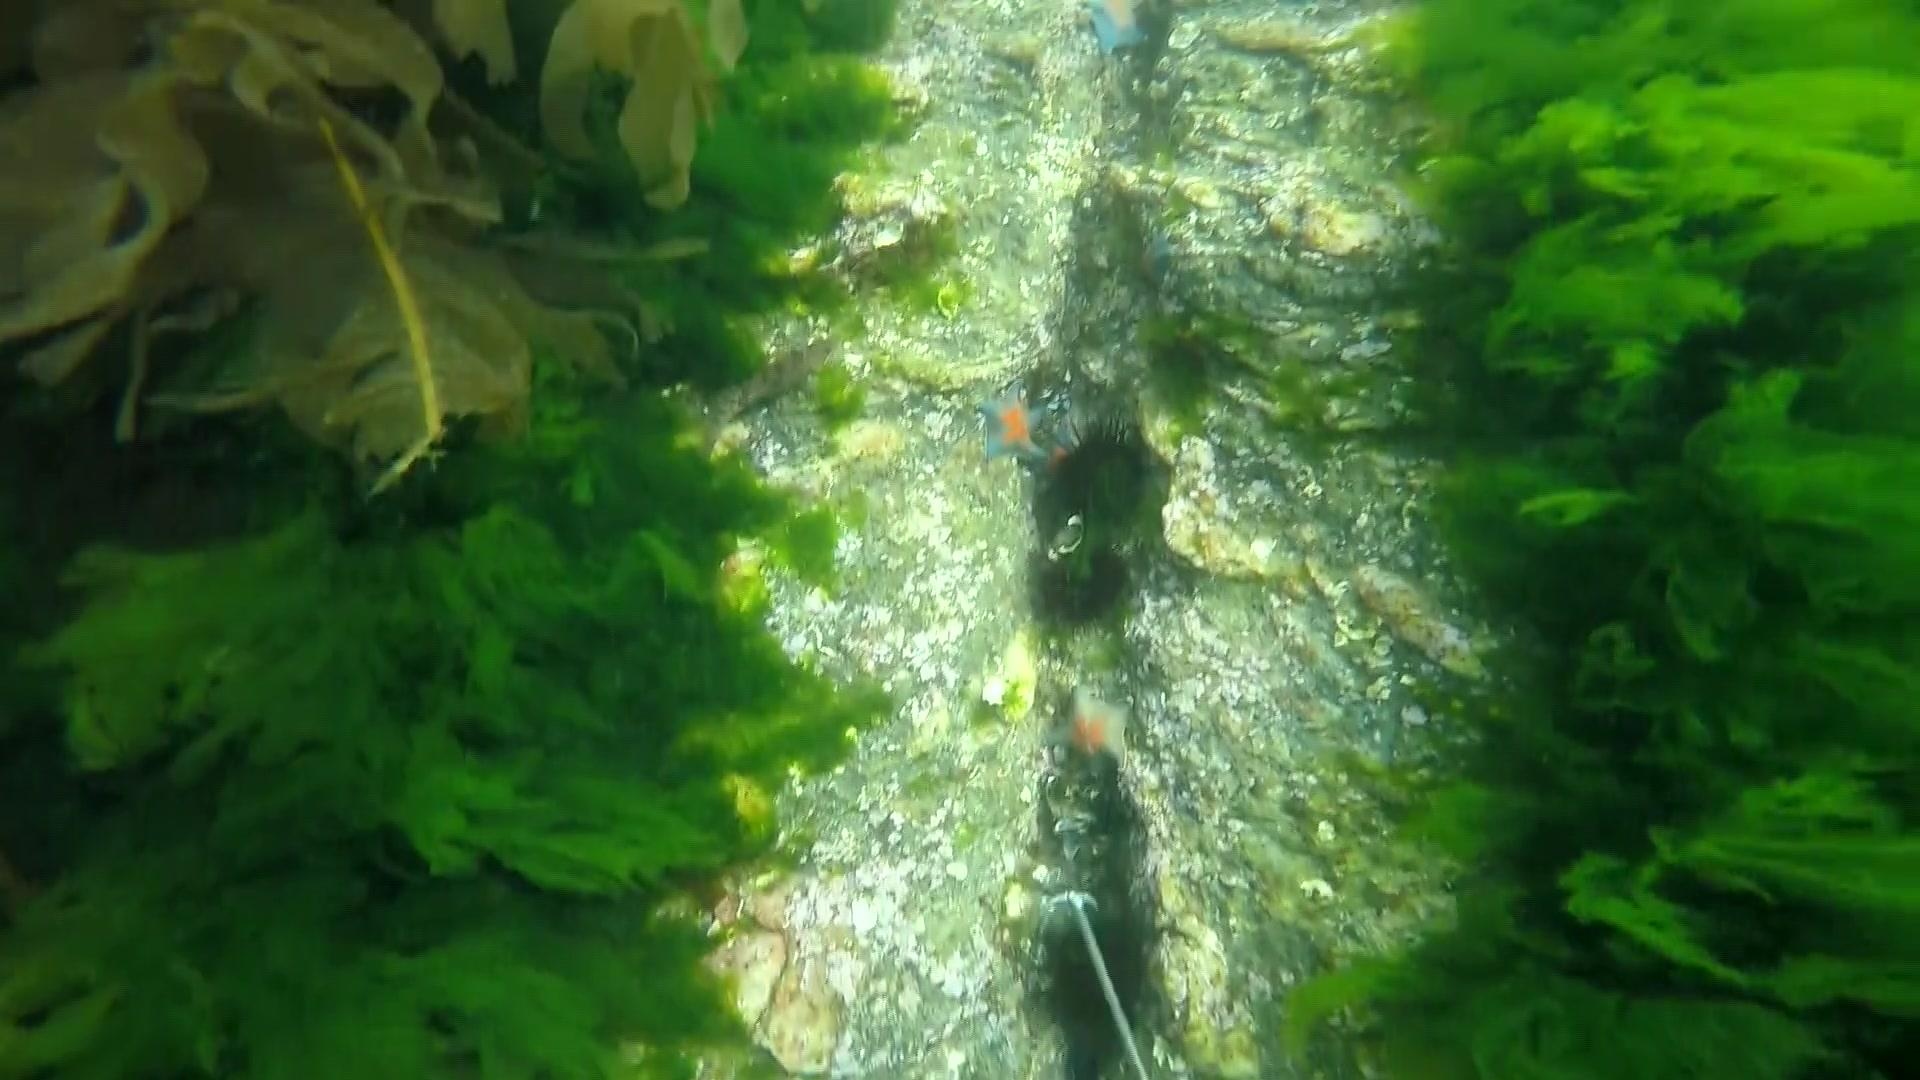echinus: (1033, 920, 1159, 1033), (1040, 406, 1156, 525), (1035, 541, 1131, 632)
starfish: (1044, 683, 1138, 781), (971, 378, 1056, 469), (1077, 1, 1153, 59), (1138, 227, 1178, 286)
